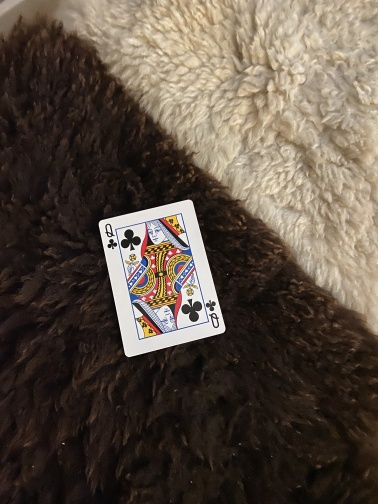queen: (96, 198, 228, 359)
